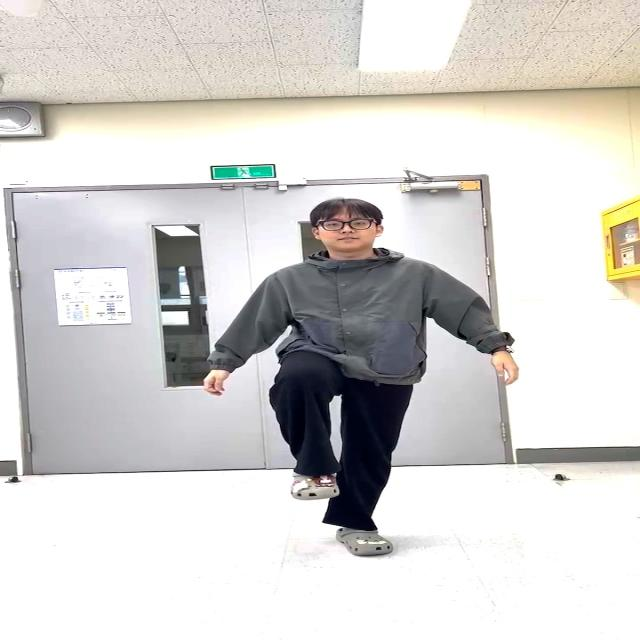leg: (254, 352, 342, 550)
